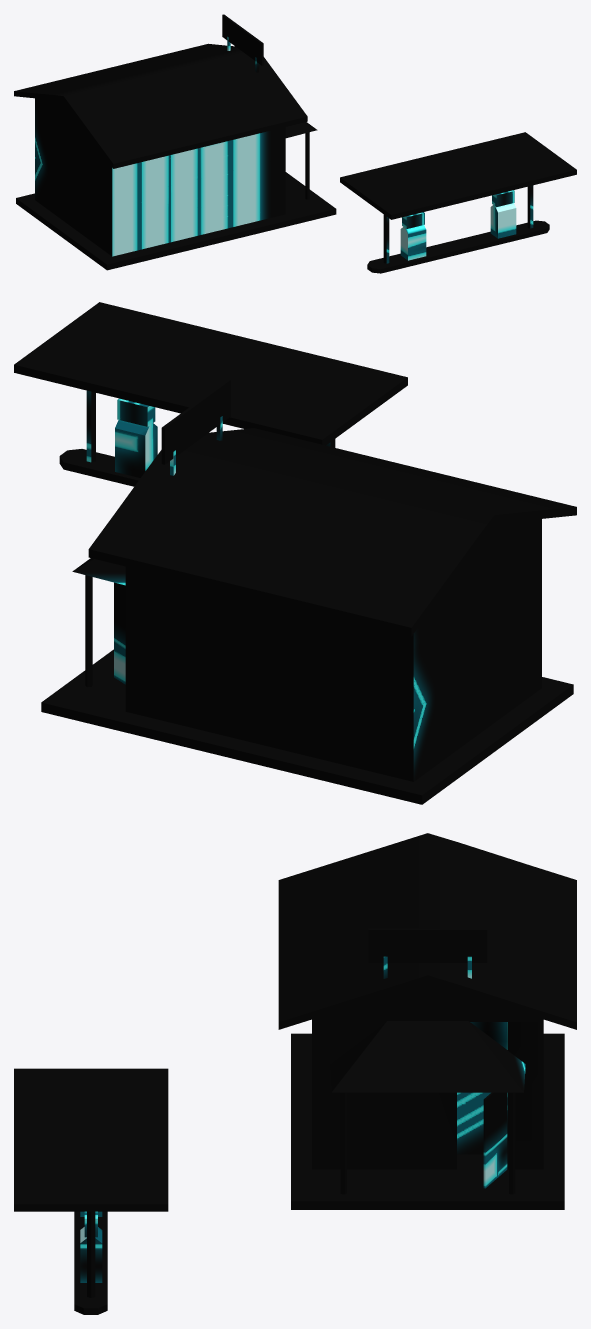
The model's file is Building_Gasstation2unwrapped.fbx.
3 views of the same model, one above another, from view 1: azimuth 30°, elevation 25°; view 2: azimuth 150°, elevation 25°; view 3: azimuth 270°, elevation 25° (orthographic). The views are drawn at different scales.
Visible parts, largest first — view 1: polySurface34; view 2: polySurface34; view 3: polySurface34.
Boxes of the visible parts, x1,y1,x2,y2 form: polySurface34: (14, 14, 576, 273); polySurface34: (14, 302, 576, 804); polySurface34: (14, 833, 576, 1314).
Size of the model in its own units: 2180 by 903 by 1876.
